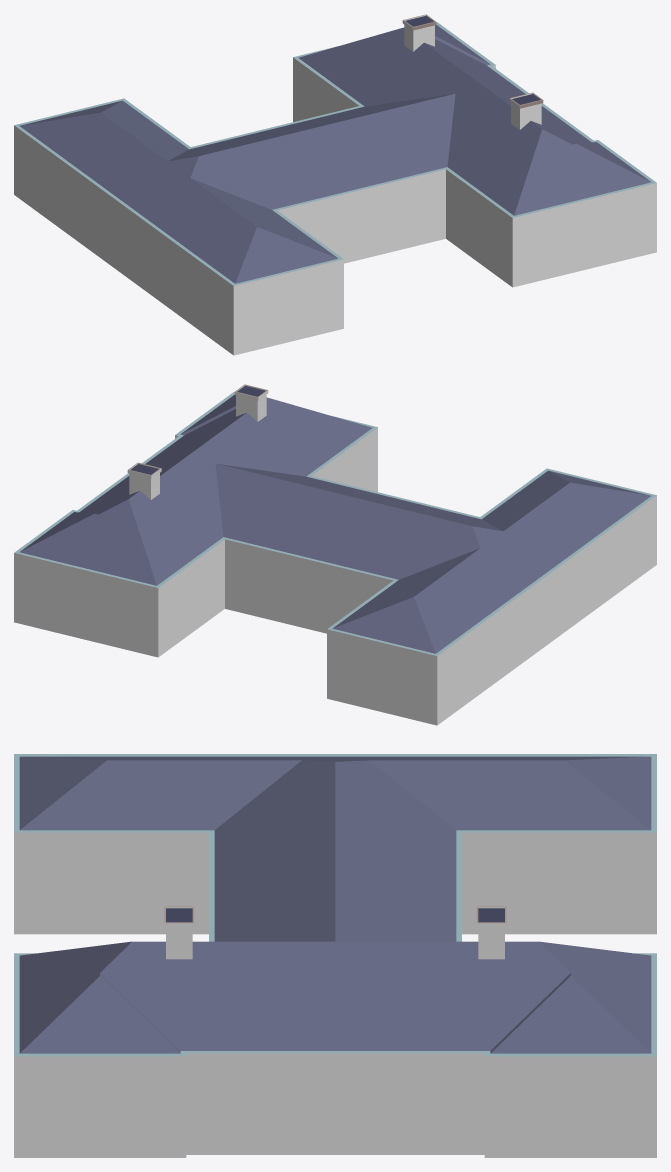
Rendered from dey.dae.
The picture shows the model from 3 angles, top to bottom: view 1: azimuth 30°, elevation 25°; view 2: azimuth 150°, elevation 25°; view 3: azimuth 270°, elevation 25°; orthographic projection. The views are drawn at different scales.
Visible parts, largest first — view 1: SketchUp (×3), Dey_Chimney (×2); view 2: SketchUp (×3), Dey_Chimney (×2); view 3: SketchUp (×3), Dey_Chimney (×2).
Part boxes in pixels (x1,y1,x2,y2): SketchUp (×3): (14,22,656,355); Dey_Chimney (×2): (404,15,541,129); SketchUp (×3): (14,392,656,725); Dey_Chimney (×2): (129,385,266,499); SketchUp (×3): (14,754,656,1157); Dey_Chimney (×2): (166,907,504,959).
Bounding box in the file's own units: 232 × 208 × 67.99.
